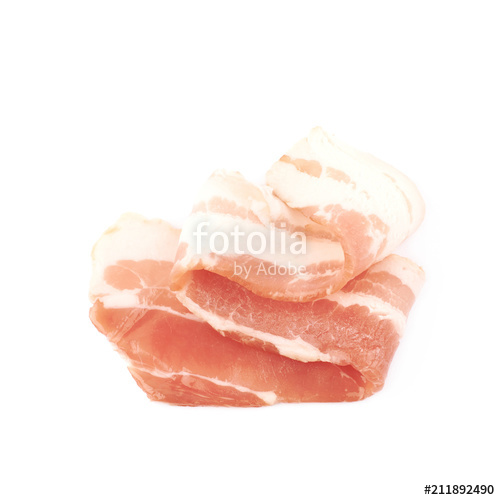bacon: (79, 140, 432, 420)
